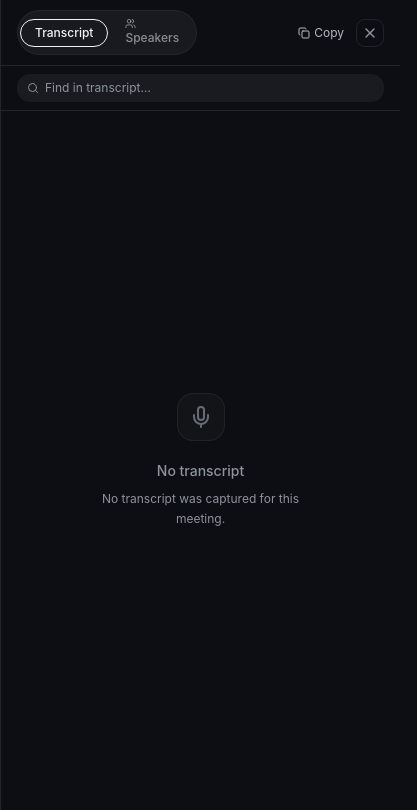
Test: TranscriptDrawer › find-in-transcript (plan v9 #11) › shows No matches without stranding the transcript
Type "zzznothing" into the field named "Search transcript".
click(210, 88); type("zzznothing")  # box [45,80,374,96]
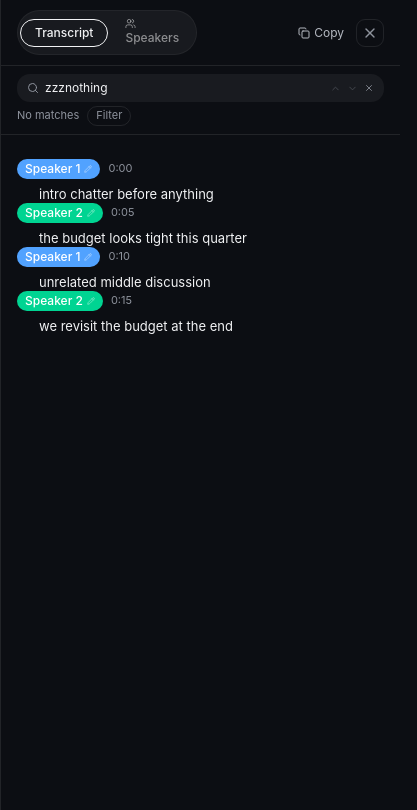
Now the text with test id "match-count" reads "No matches", box [17,108,79,122]
Now the text "intro chatter before anything" is shown, box [39,186,214,202]
